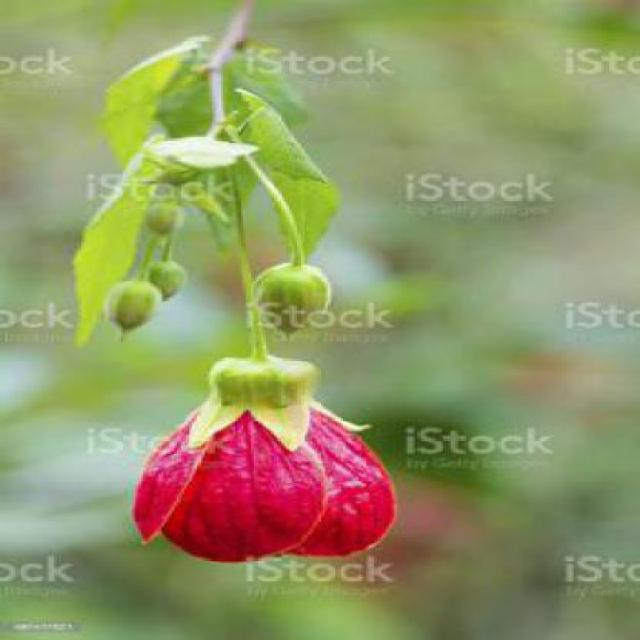Flower: (131, 357, 397, 561)
